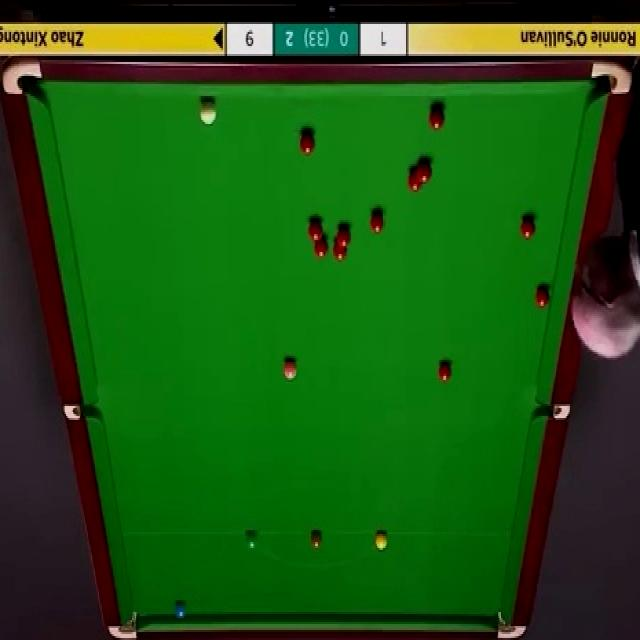blue-ball: (172, 597, 188, 622)
brown-ball: (309, 529, 323, 549)
green-ball: (246, 528, 260, 550)
pink-ball: (280, 356, 299, 384)
red-ball: (520, 213, 538, 243), (427, 103, 445, 130), (415, 158, 434, 183), (299, 128, 315, 155), (534, 283, 551, 308), (368, 208, 384, 232), (336, 224, 352, 247), (332, 240, 349, 261), (406, 170, 422, 192), (437, 361, 452, 384), (308, 220, 323, 242), (313, 238, 329, 258)
white-ball: (200, 100, 217, 127)
yellow-ball: (374, 530, 388, 550)
